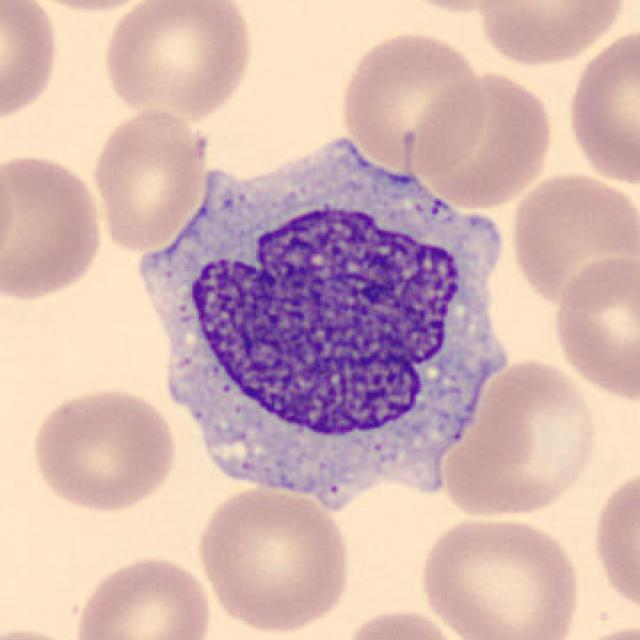Monocyte: (128, 128, 528, 524)
RBC: (436, 354, 602, 522), (192, 483, 356, 635), (336, 26, 491, 173), (414, 511, 587, 640), (409, 67, 556, 210), (27, 382, 181, 514), (98, 0, 258, 122), (87, 104, 213, 254), (505, 168, 638, 310), (0, 148, 107, 305), (548, 250, 638, 406), (562, 21, 638, 192), (69, 552, 215, 640), (471, 0, 631, 67), (0, 0, 64, 129), (588, 458, 638, 622), (336, 604, 467, 640), (388, 0, 542, 16), (0, 148, 18, 280), (16, 0, 165, 14), (555, 619, 638, 640), (2, 622, 92, 640)
